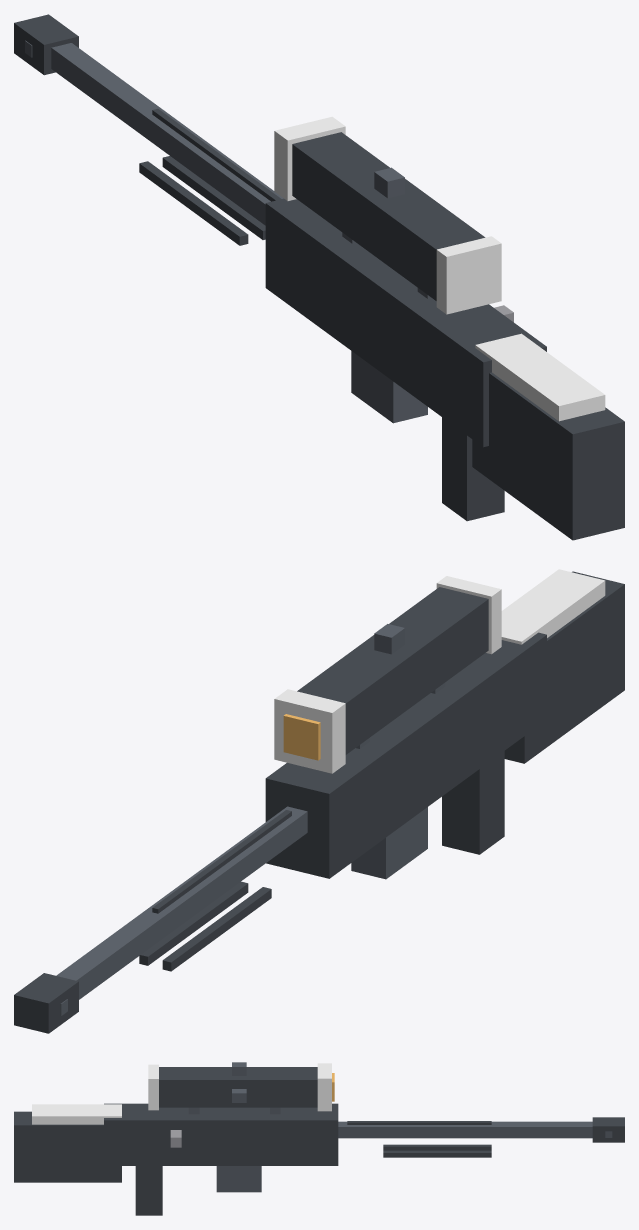
The model's file is SNIPER.gltf.
3 views of the same model, one above another, from view 1: azimuth 30°, elevation 25°; view 2: azimuth 150°, elevation 25°; view 3: azimuth 270°, elevation 25° (orthographic). The views are drawn at different scales.
Parts seen in each view (by area): view 1: SNIPER; view 2: SNIPER; view 3: SNIPER.
Boxes of the visible parts, x1,y1,x2,y2 form: SNIPER: [14, 14, 624, 540]; SNIPER: [14, 569, 624, 1033]; SNIPER: [14, 1062, 624, 1215].
Size of the model in its own units: 0.064 by 0.179 by 0.678.
